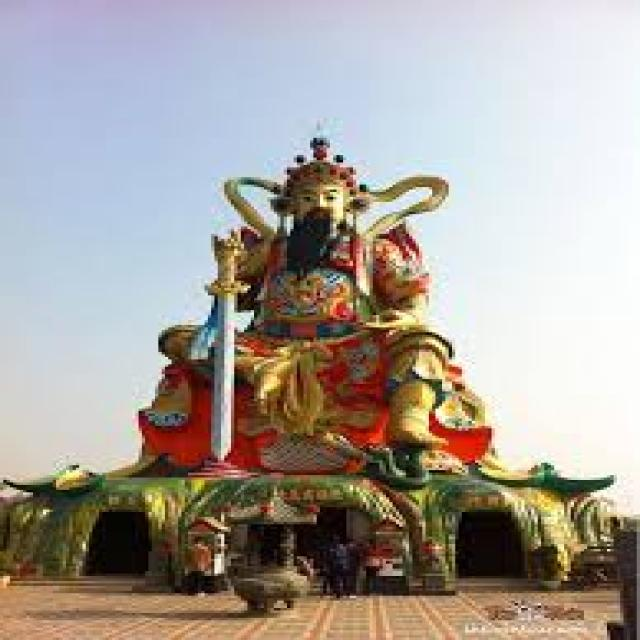Xuan wu: (148, 135, 486, 473)
